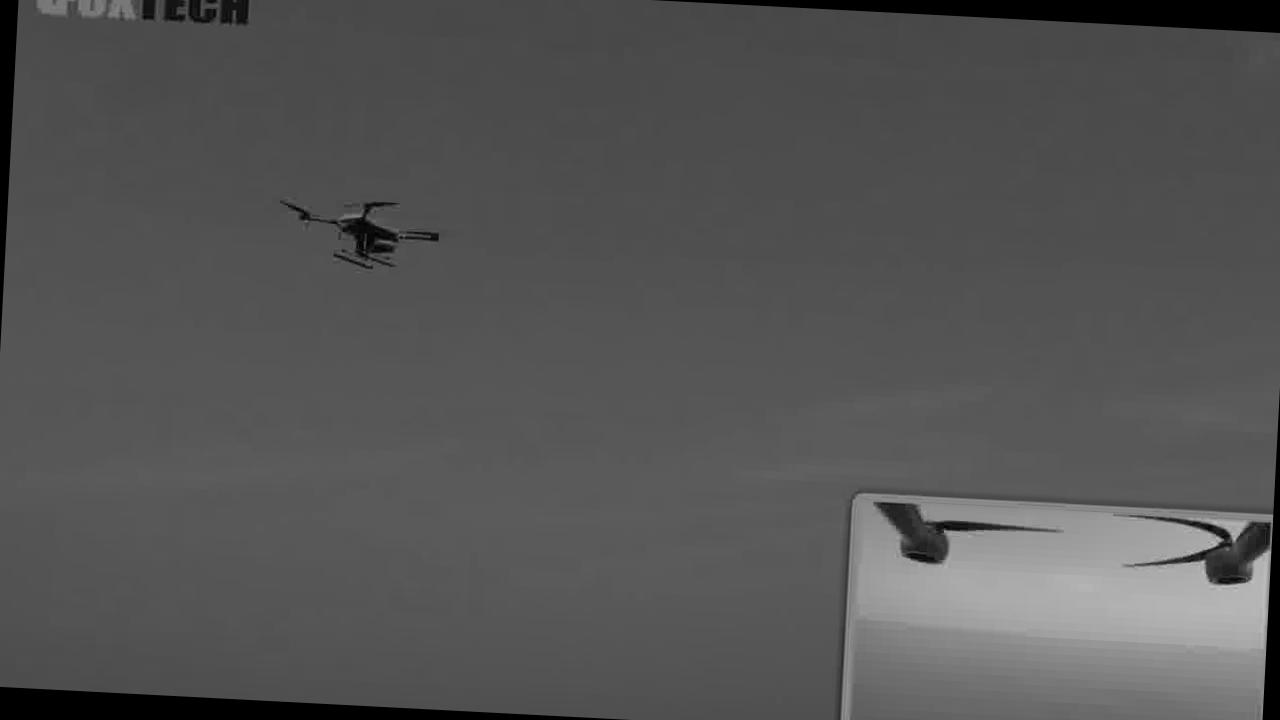drone: (266, 167, 458, 294)
